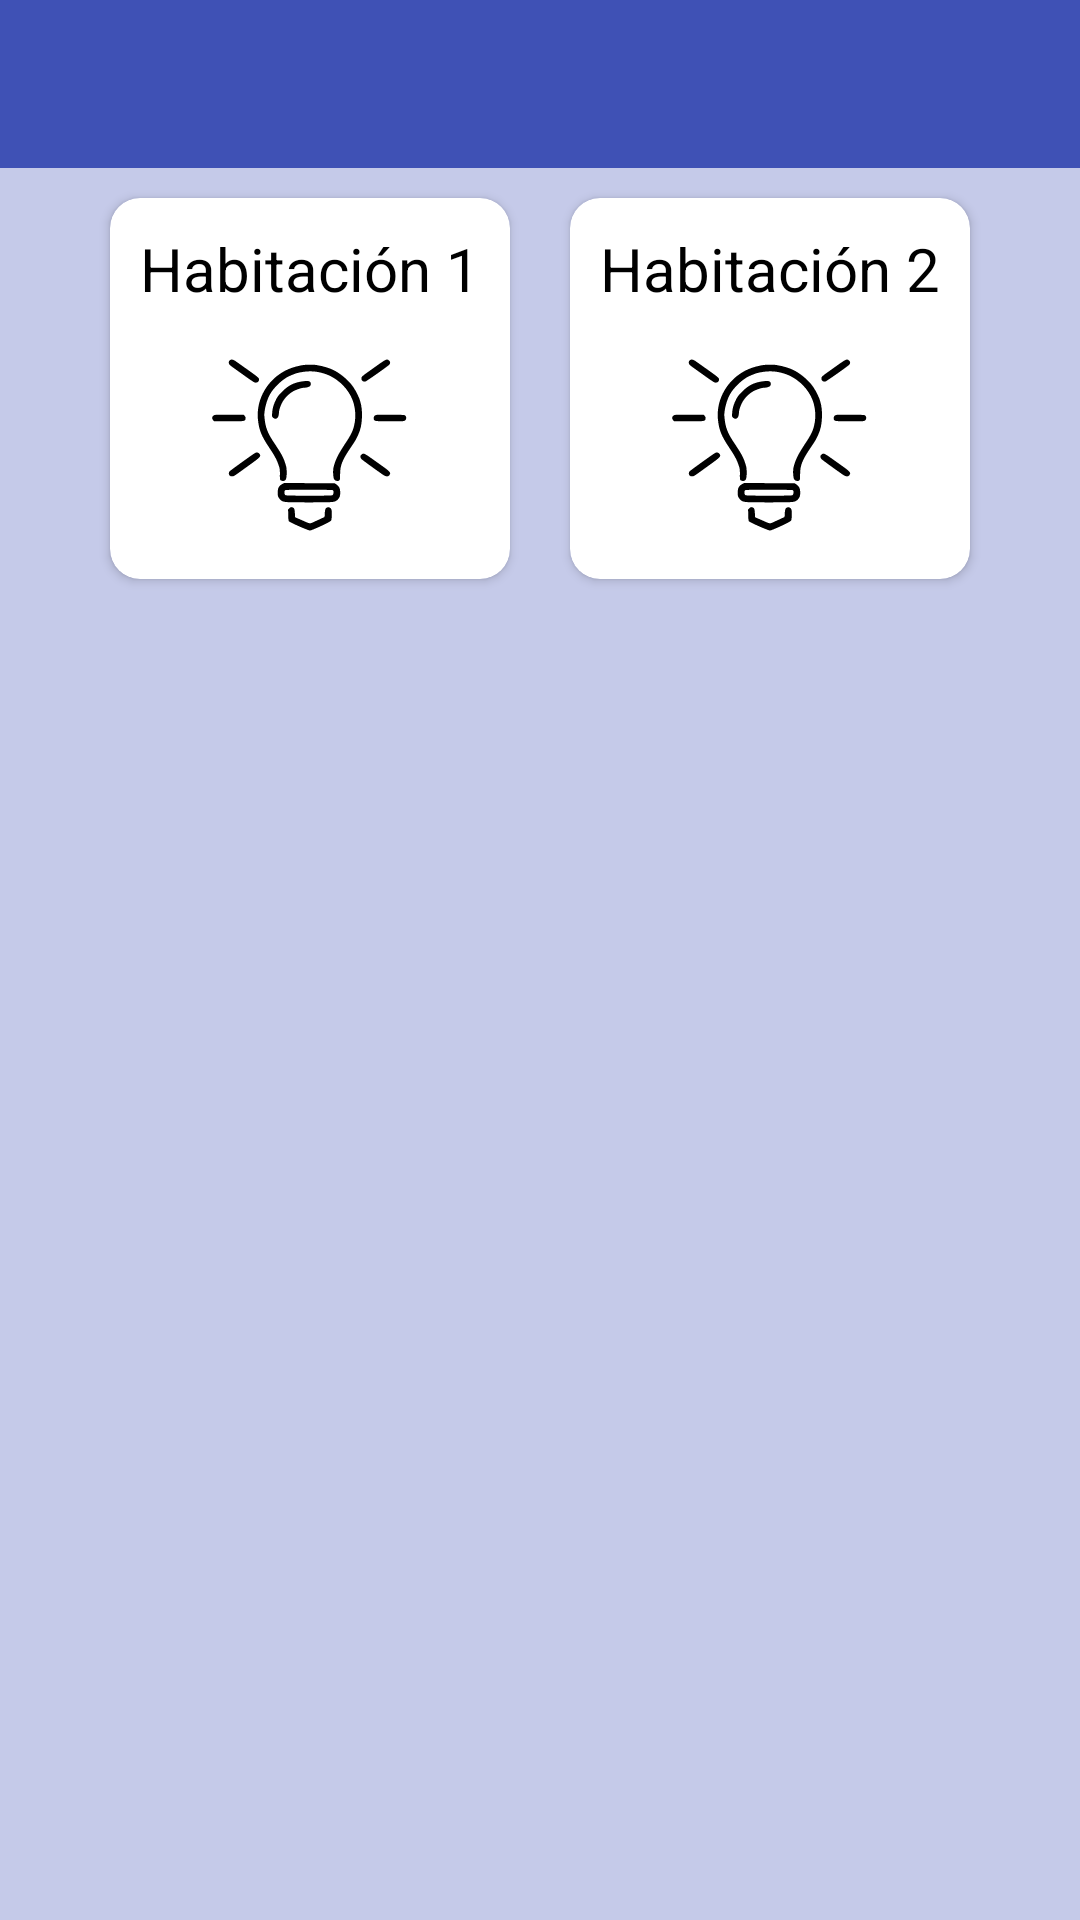

Where to tap for icons on this 1080 × 1920 app screen, as (x,y):
foco: (309,445), (769,445)
